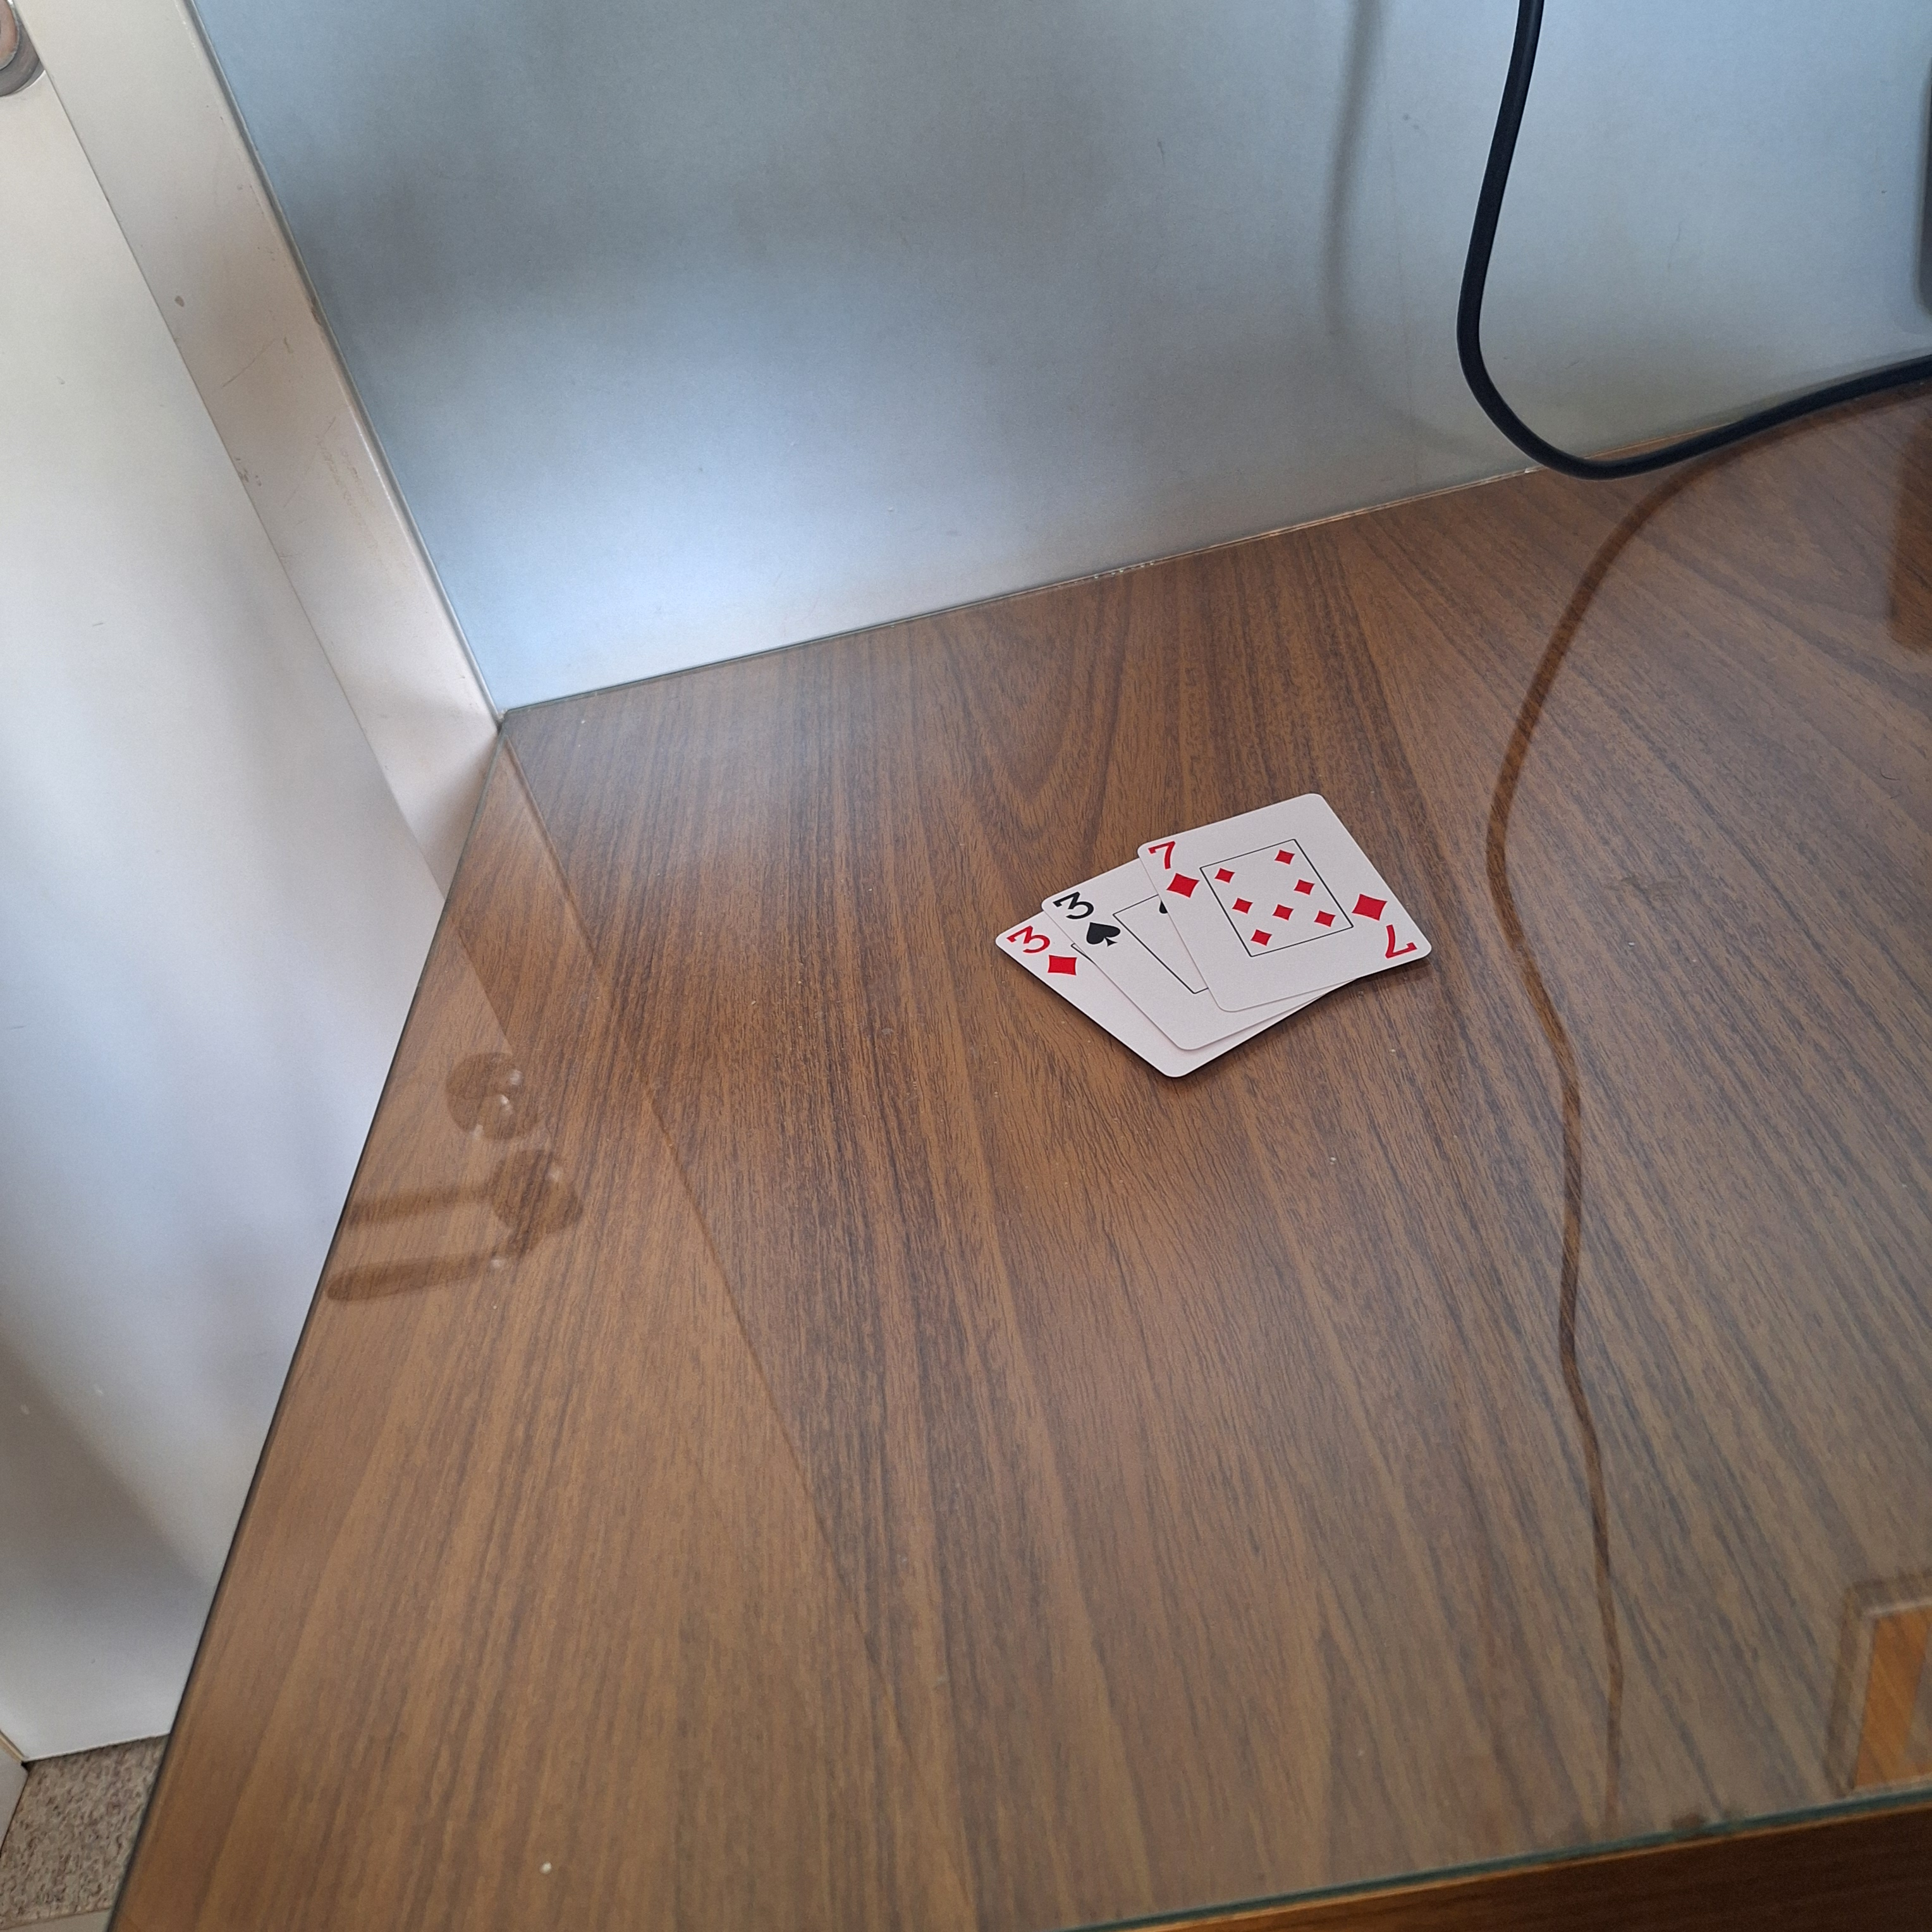3E: (1049, 886, 1123, 950)
3O: (1000, 922, 1081, 989)
7O: (1348, 886, 1424, 962), (1141, 837, 1207, 902)
